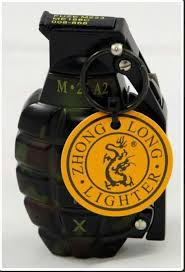e1: (14, 10, 171, 259)
